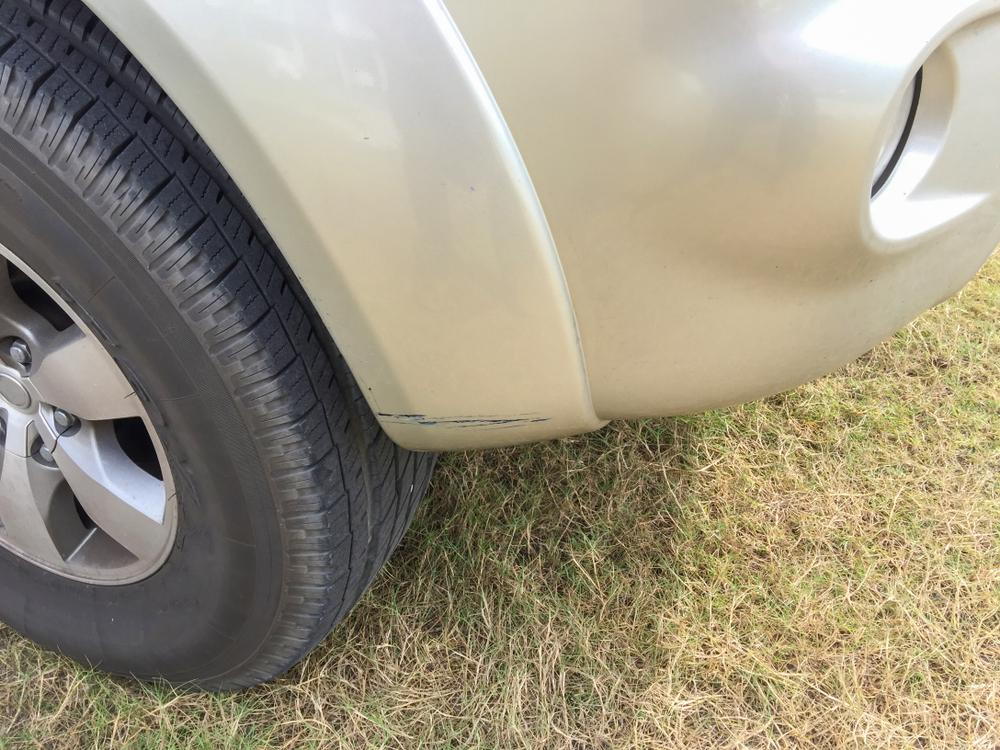scratch: (378, 411, 553, 432)
